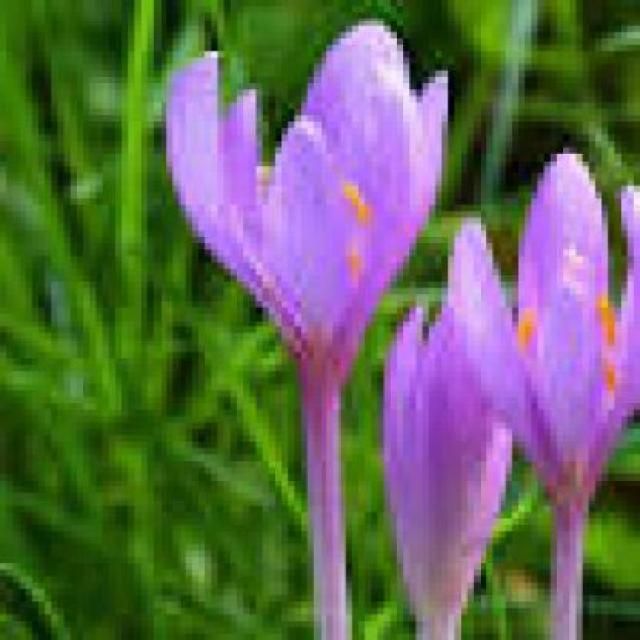Flower: (162, 19, 449, 379), (444, 151, 640, 534), (371, 293, 518, 633)
